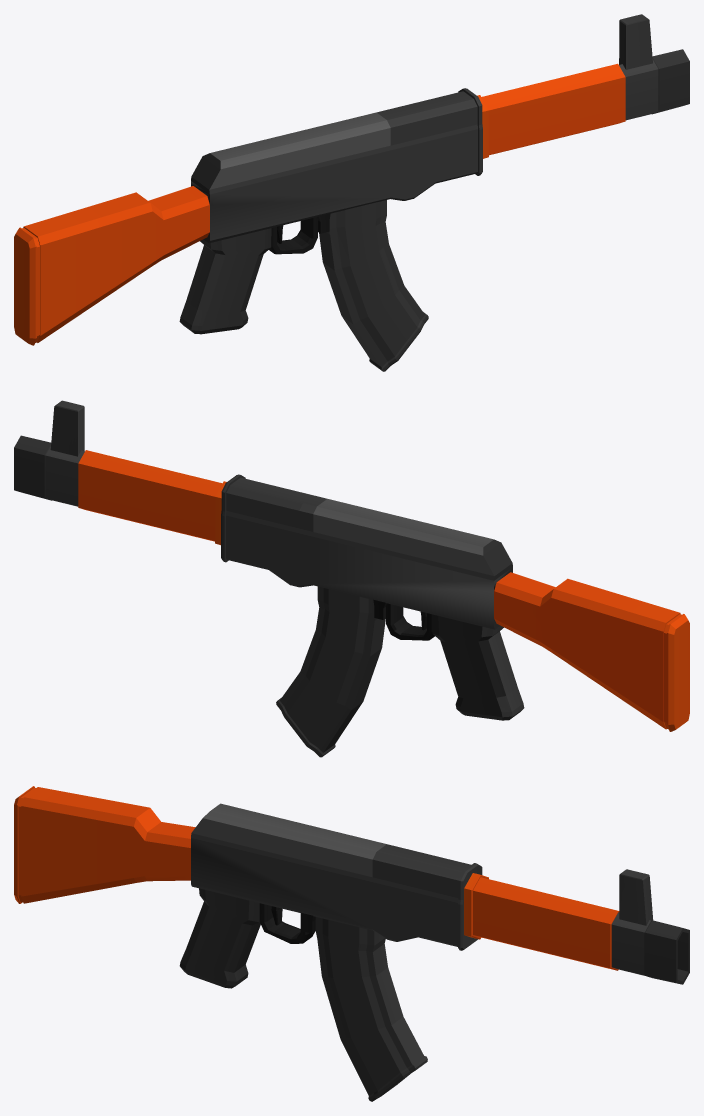
3 renders of one model, top to bottom at view 1: azimuth 30°, elevation 25°; view 2: azimuth 150°, elevation 25°; view 3: azimuth 330°, elevation 25°, orthographic.
Visible parts, largest first — view 1: Cube.024; view 2: Cube.024; view 3: Cube.024.
Part boxes in pixels (<box>): Cube.024: <box>14,14,689,371</box>; Cube.024: <box>14,400,689,757</box>; Cube.024: <box>14,786,689,1101</box>.
Bounding box in the file's own units: 105 × 43.35 × 5.88.
Materials: 1 (1 with a texture image).
